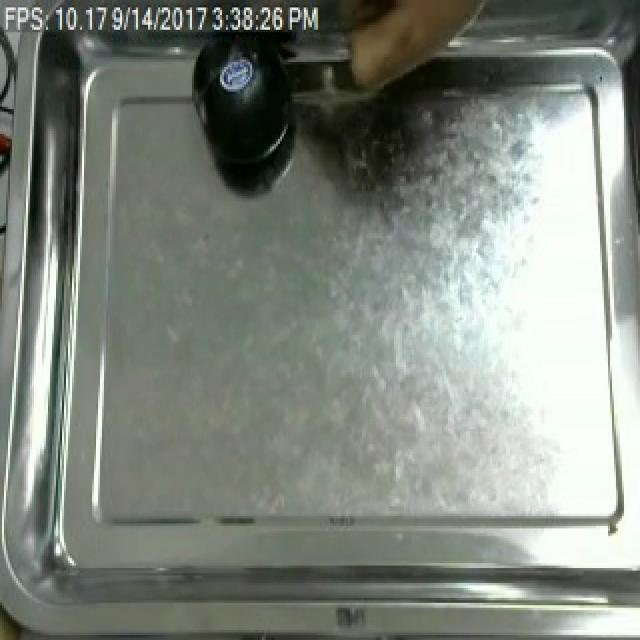Fruit: (336, 0, 496, 102)
